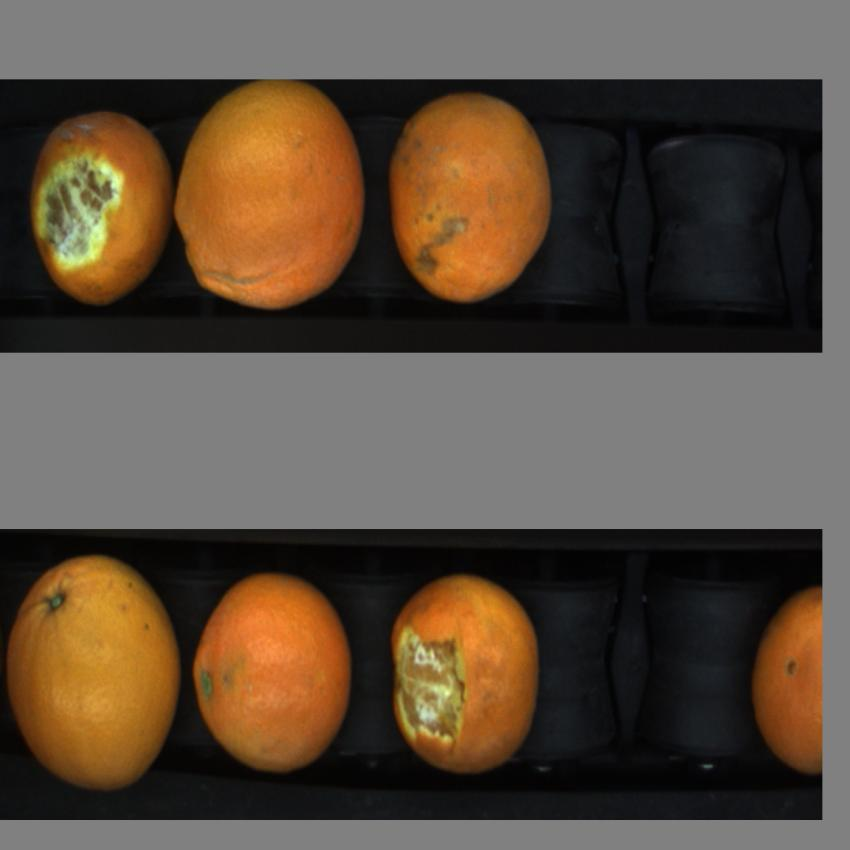Buen estado: (173, 80, 375, 316), (7, 549, 186, 799), (386, 91, 564, 310), (190, 563, 360, 780), (744, 569, 820, 799)
Mal estado: (380, 564, 550, 791), (22, 88, 174, 321)
